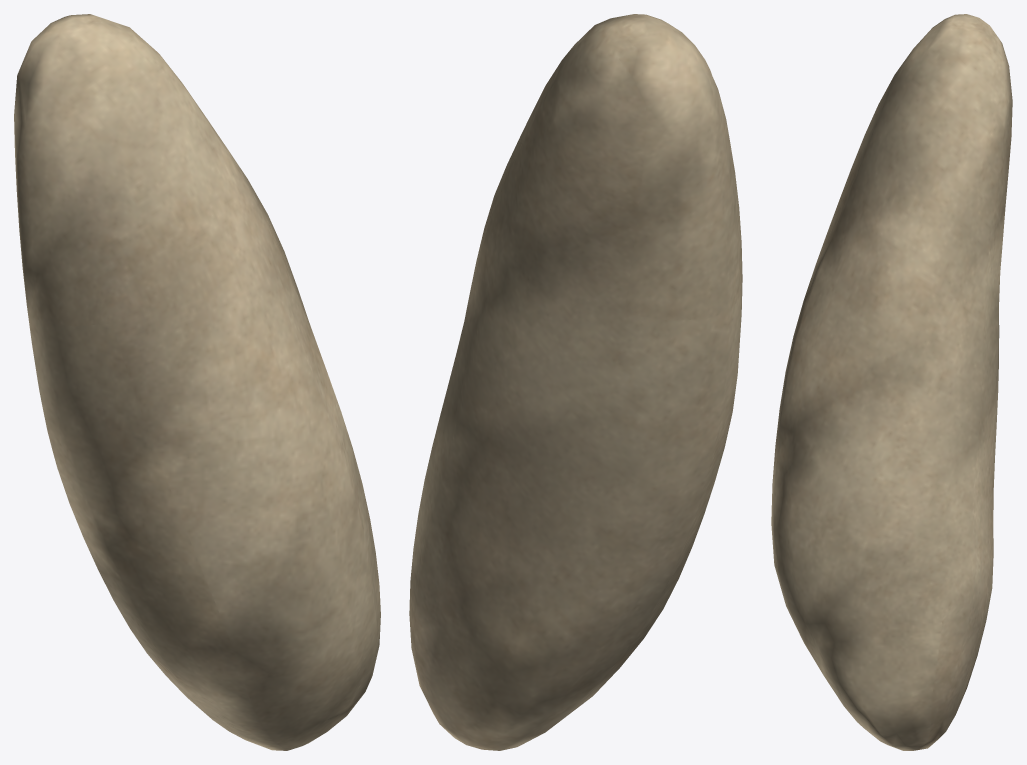
The model's file is Upper_Canine.glb.
3 renders of one model, left to right at view 1: azimuth 30°, elevation 25°; view 2: azimuth 150°, elevation 25°; view 3: azimuth 270°, elevation 25°, orthographic. The views are drawn at different scales.
Visible parts, largest first — view 1: Group11207_Mesh.074; view 2: Group11207_Mesh.074; view 3: Group11207_Mesh.074.
Boxes of the visible parts, x1,y1,x2,y2 form: Group11207_Mesh.074: [14, 14, 380, 750]; Group11207_Mesh.074: [409, 14, 742, 750]; Group11207_Mesh.074: [771, 14, 1012, 750].
Size of the model in its own units: 0.00931 by 0.0214 by 0.00718.
Materials: 1 (1 with a texture image).
